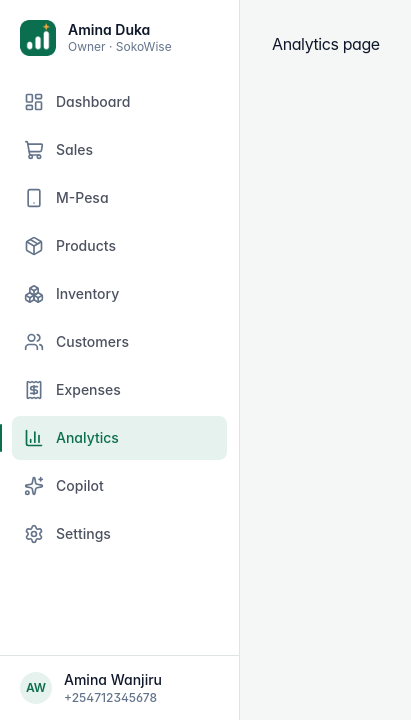
it: AppShell › links the logo and business name to the dashboard in the sidebar and the mobile header
Click the link with aria-label "Go to the dashboard". click: click(96, 38)
box: [20,20,172,56]
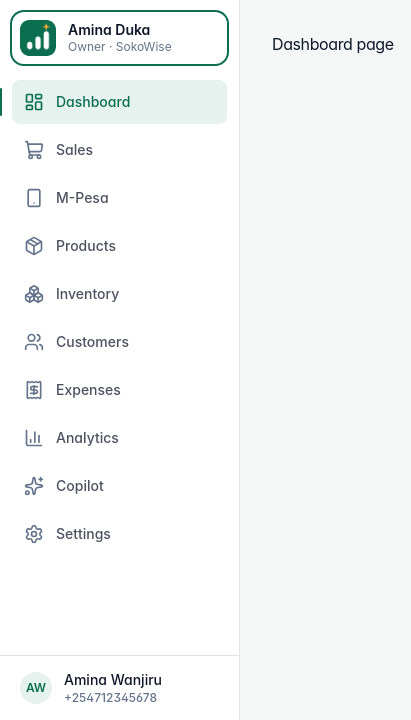
Expected: the heading "Dashboard page" is shown, [272,34,394,54]
